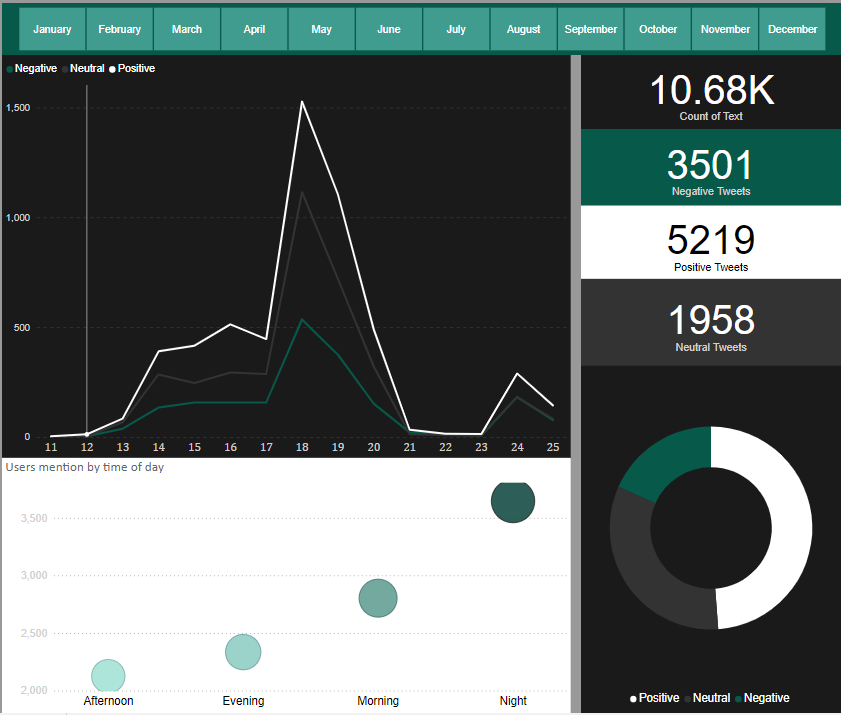

This screenshot's page, from the dashboard's own definition file:
{"tool":"powerbi","page":{"name":"Sentiment View","canvas":[1280,1080],"ordinal":1},"visuals":[{"type":"lineChart","title":"Tweet Distribution","fields":{"Category":["Apple.Date.Variation.Date Hierarchy.Day"],"Y":["Count(Apple.Text)"],"Series":["Apple.Sentiment"]},"box":[12.1,93.7,853.3,603.6],"z":0},{"type":"donutChart","title":"Tweet Sentiment","fields":{"Category":["Apple.Sentiment"],"Y":["Count(Apple.Text)"]},"box":[881.1,558.5,390.2,522.1],"z":1000},{"type":"slicer","fields":{"Values":["Apple.Date.Variation.Date Hierarchy.Month"]},"box":[12.1,15.6,1259.2,78],"z":2000},{"type":"card","fields":{"Values":["Apple.Count of Text for Negative"]},"box":[881.1,204.7,390.2,114.5],"z":3000},{"type":"card","fields":{"Values":["Apple.Count of Text for Positive"]},"box":[881.1,319.1,390.2,109.3],"z":4000},{"type":"card","fields":{"Values":["Apple.Count of Text for Neutral"]},"box":[881.1,428.4,390.2,130.1],"z":5000},{"type":"card","fields":{"Values":["Count(Apple.Text)"]},"box":[881.1,93.7,390.2,111],"z":6000},{"type":"scatterChart","title":"Users mention by time of day","fields":{"X":["Apple.Time_moment"],"Y":["Count(Apple.Text)"],"Size":["Count(Apple.Text)"]},"box":[12.1,697.2,853.3,383.3],"z":7000}]}

Visuals, with their boxes in screenshot pixels (x1, y1, x2, y2), scaled from the page's 1280x1080 canvas onto the 841x715 screenshot:
"Tweet Distribution" lineChart: (left=8, top=62, right=569, bottom=462)
"Tweet Sentiment" donutChart: (left=579, top=370, right=835, bottom=714)
slicer - Apple.Date.Variation.Date Hierarchy.Month: (left=8, top=10, right=835, bottom=62)
card - Apple.Count of Text for Negative: (left=579, top=136, right=835, bottom=211)
card - Apple.Count of Text for Positive: (left=579, top=211, right=835, bottom=284)
card - Apple.Count of Text for Neutral: (left=579, top=284, right=835, bottom=370)
card - Count(Apple.Text): (left=579, top=62, right=835, bottom=136)
"Users mention by time of day" scatterChart: (left=8, top=462, right=569, bottom=714)
